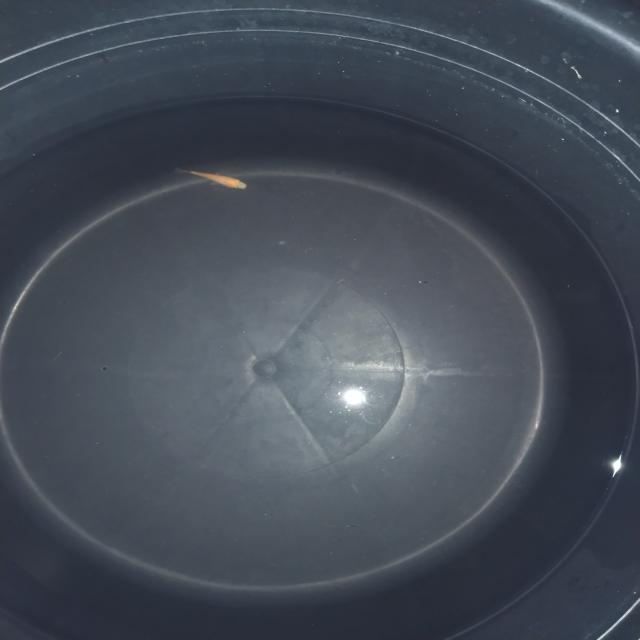nila: (174, 162, 252, 192)
